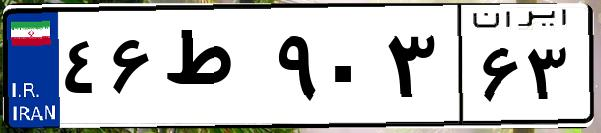0: (330, 28, 385, 110)
3: (385, 28, 445, 110), (525, 38, 570, 115)
4: (57, 26, 110, 100)
6: (475, 38, 525, 113), (110, 28, 158, 98)
9: (270, 28, 330, 110)
ط: (158, 20, 270, 120)
